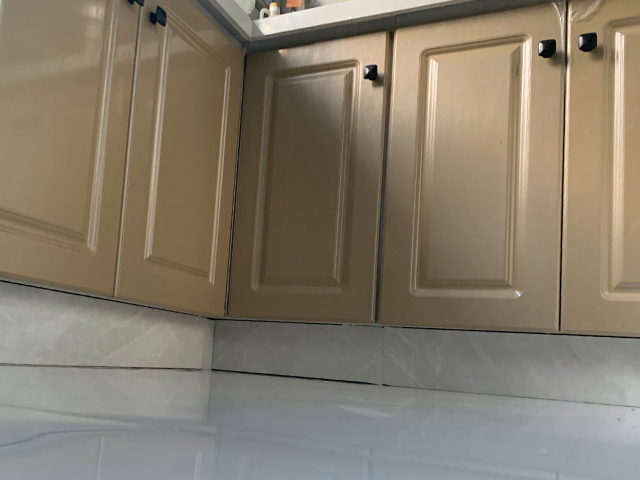cabinet: (232, 1, 639, 404), (1, 1, 225, 369)
